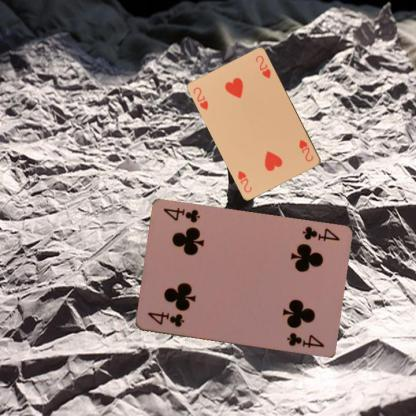2h: (191, 84, 210, 112), (296, 137, 314, 163)
4c: (144, 309, 186, 329), (299, 224, 341, 242)
